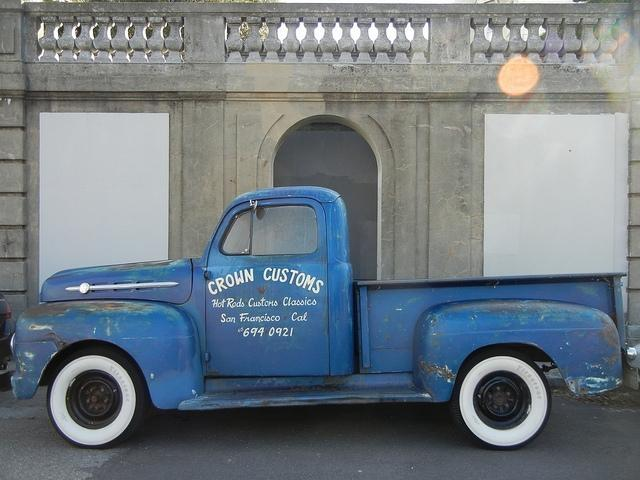truck: (9, 188, 634, 454)
